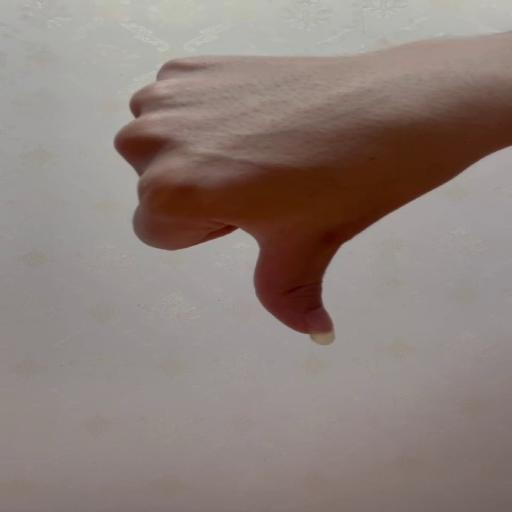thumbs_down: (114, 54, 431, 347)
